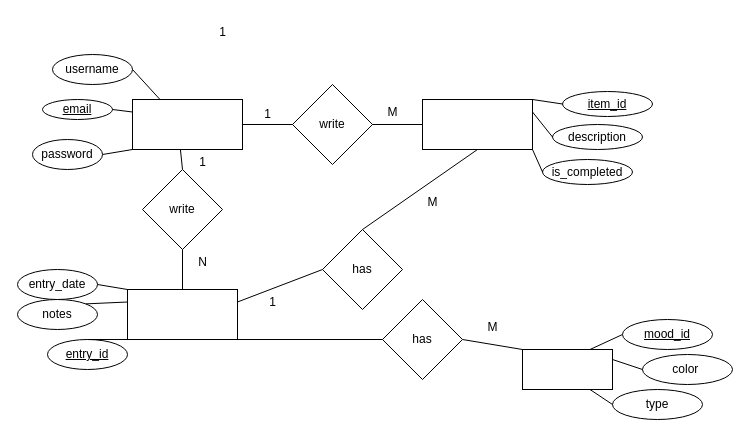
This 750x437 diagram has some shape labels left out. Here are the shapes that lost their labels. From the top down, the box of each, then its label:
(132, 98, 242, 150): user
(422, 98, 532, 150): todo item
(126, 288, 238, 340): entries
(522, 348, 612, 390): mood
